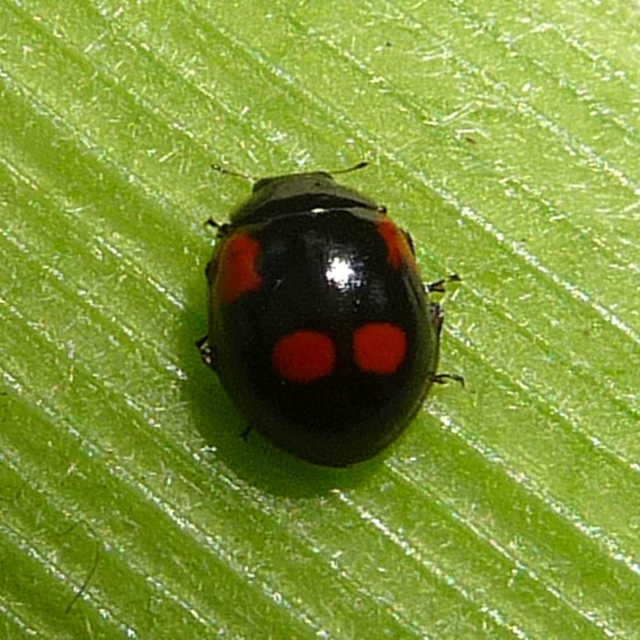Ladybug: (195, 165, 470, 465)
